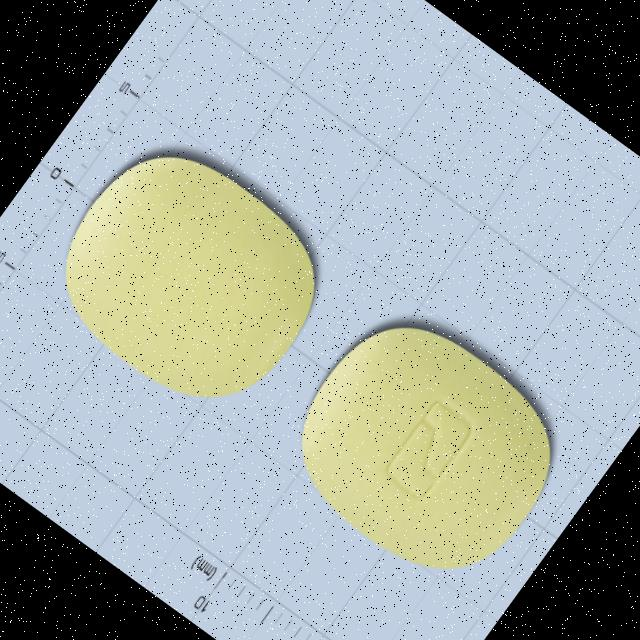Claroma: (261, 288, 587, 608), (27, 120, 350, 437)
